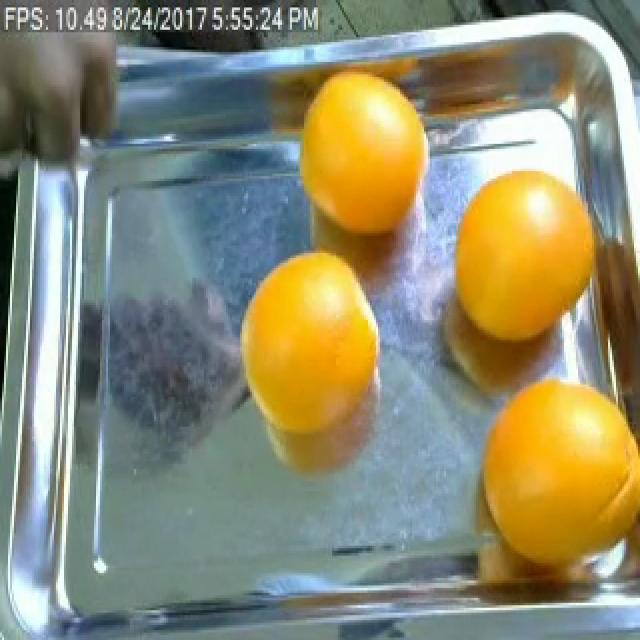Fruit: (280, 52, 450, 266), (224, 236, 394, 444)
